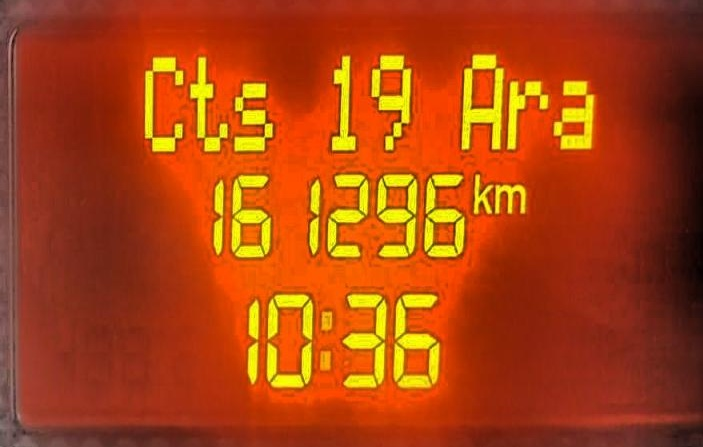0: (266, 291, 314, 387)
1: (329, 48, 357, 155), (244, 294, 260, 387), (209, 171, 224, 259), (306, 171, 320, 260)
2: (326, 170, 370, 260)
3: (342, 288, 387, 389)
6: (393, 288, 443, 388), (423, 168, 465, 260), (227, 171, 270, 258)
9: (366, 47, 413, 151), (373, 168, 417, 257)
X: (141, 49, 186, 156), (461, 46, 504, 151), (188, 52, 230, 152), (231, 80, 274, 154), (550, 77, 594, 147), (507, 77, 548, 152), (493, 180, 527, 215), (319, 306, 333, 372), (472, 170, 491, 214)
